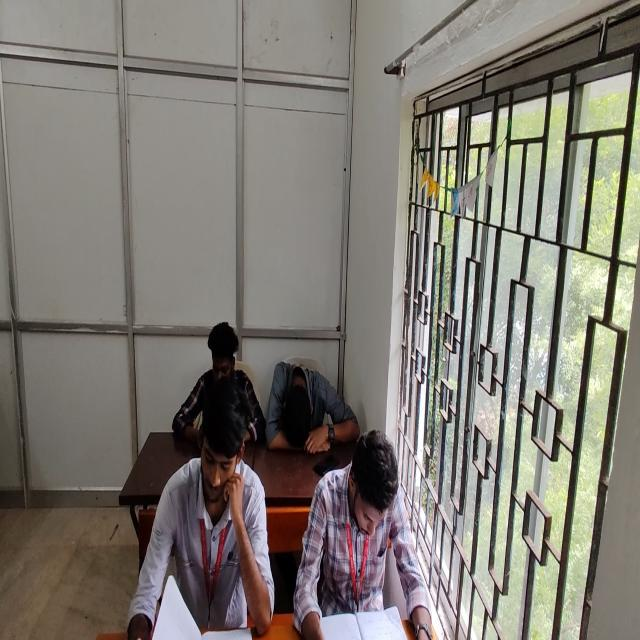reading: (129, 376, 274, 640), (295, 428, 420, 640)
sleeping: (268, 360, 360, 452)
using_mobile: (172, 319, 266, 447)
